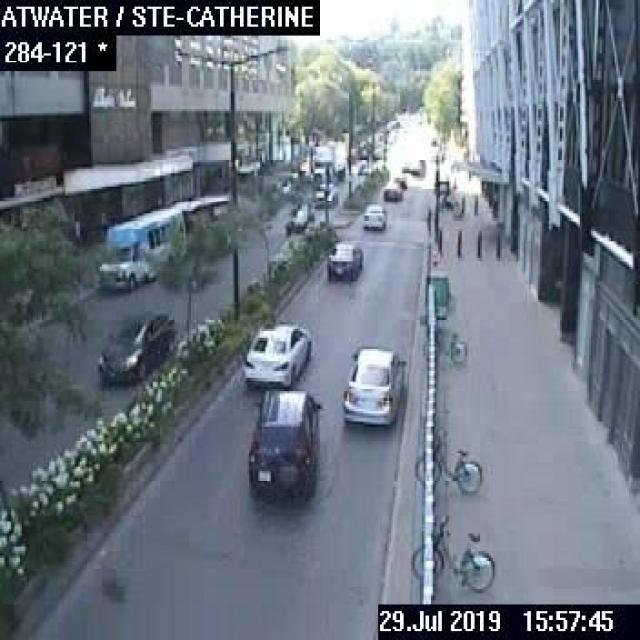bus: (98, 205, 182, 291), (174, 193, 228, 220)
vehicle: (246, 391, 321, 498), (96, 306, 174, 386), (340, 342, 405, 424), (243, 323, 311, 387), (310, 140, 344, 182), (327, 240, 362, 280), (283, 202, 312, 233), (360, 201, 385, 231), (313, 180, 337, 206), (382, 180, 402, 201), (392, 172, 406, 188)
